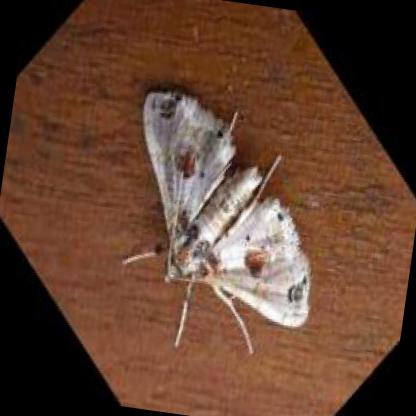leucinodes: (142, 96, 307, 329)
